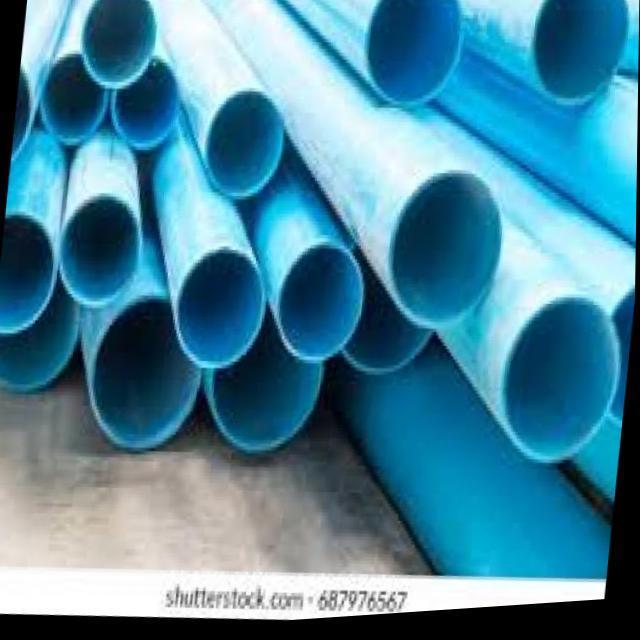pipe: (505, 305, 617, 467), (391, 181, 500, 332), (213, 303, 324, 450), (93, 300, 197, 449), (366, 0, 462, 106), (534, 0, 629, 106), (178, 253, 263, 368), (280, 247, 362, 363), (59, 194, 141, 307), (208, 92, 280, 195), (0, 216, 55, 334), (84, 0, 153, 84), (113, 59, 178, 146), (43, 55, 104, 141)
